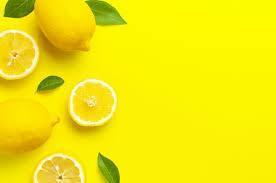lemon: (0, 96, 60, 154), (34, 1, 96, 51), (68, 78, 117, 126), (0, 29, 40, 81), (32, 152, 86, 183)
